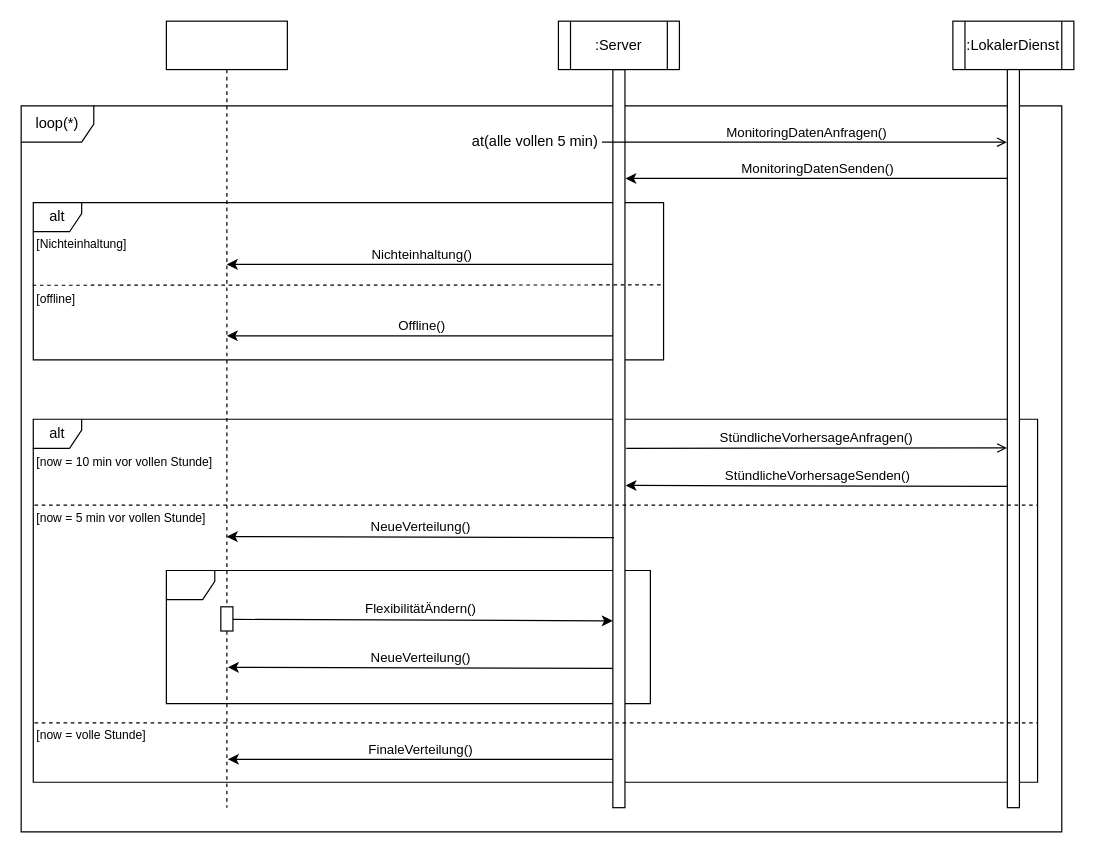
Image size: 1095x853. Some labels were removed from this diagram. The box of each missing label's shape, as (x1, y1, x2, y2) in pixels:
:Mitglied: (165, 20, 287, 70)
opt: (165, 569, 650, 704)
